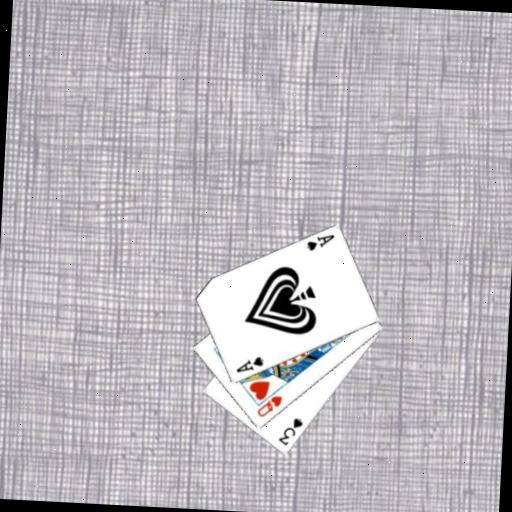3S: (276, 414, 305, 448)
AS: (304, 230, 337, 254), (233, 353, 266, 376)
QH: (254, 392, 284, 420)
